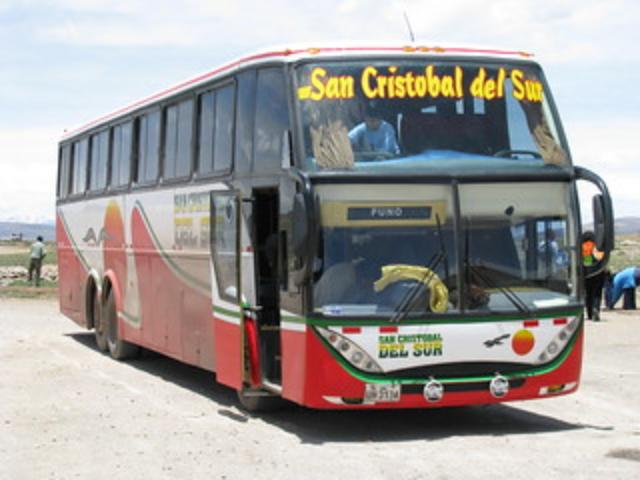bus: (54, 44, 612, 412)
